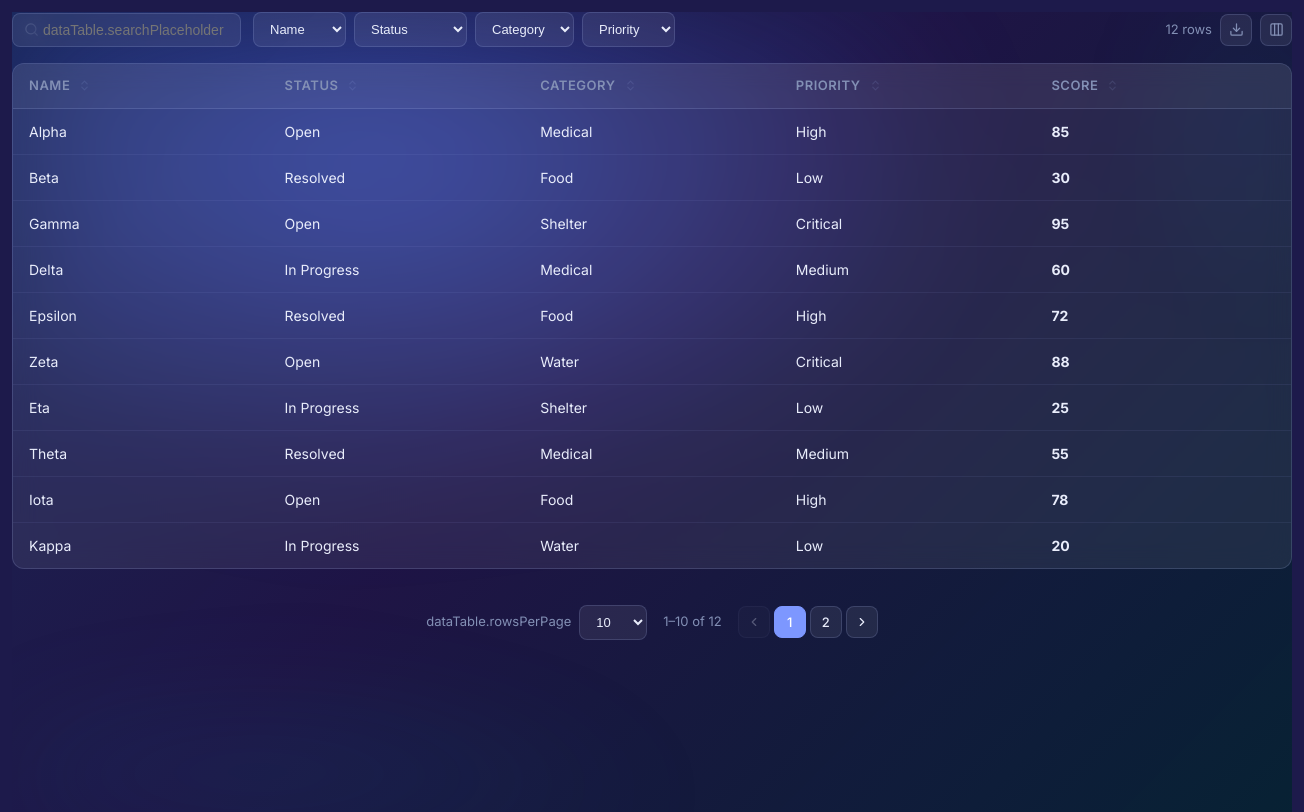
Test: DataTable › Global Search / Filtering › filters items by global search
In the field: x=126, y=30 [12,12,241,46], type "alpha"
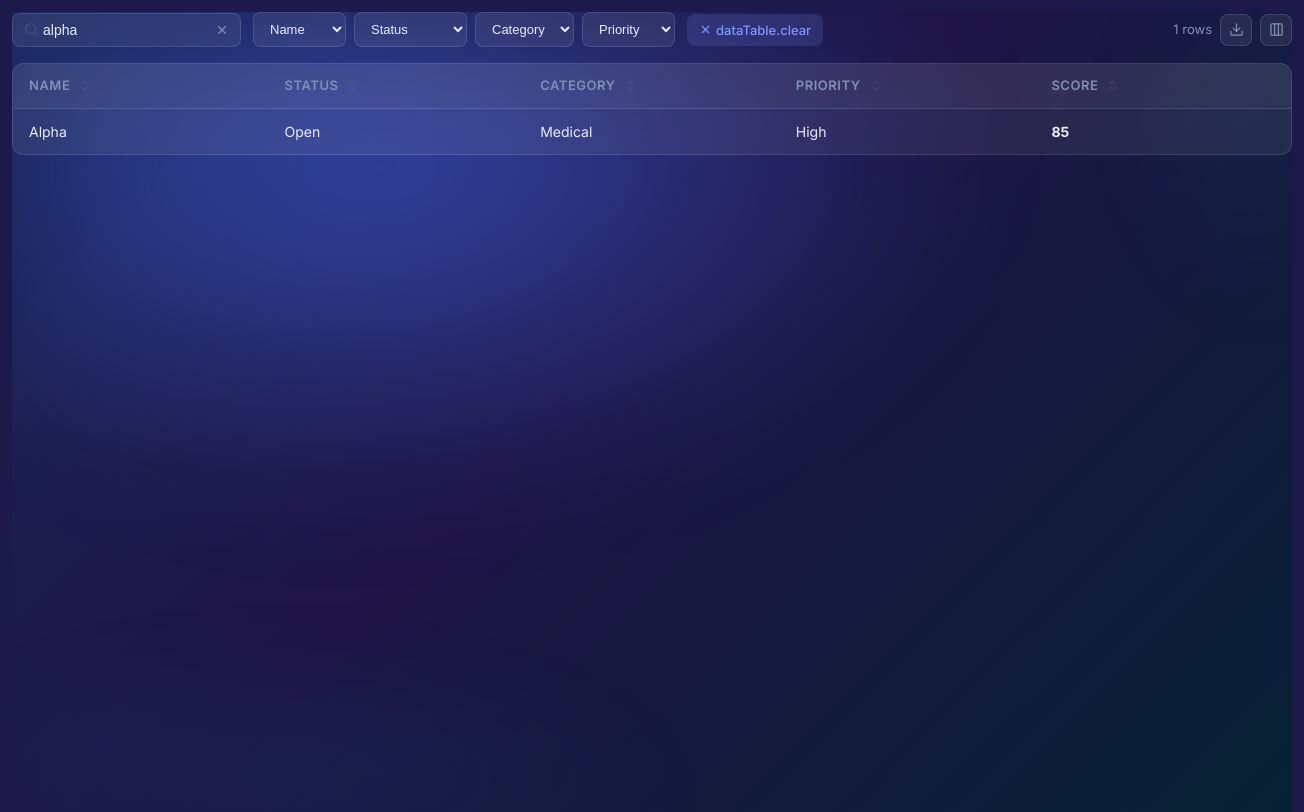
Check: the row with class "dt-tr" shows "Alpha", box [29,122,67,140]
Check: the cell with class "dt-tbody" no longer shows "Beta"
